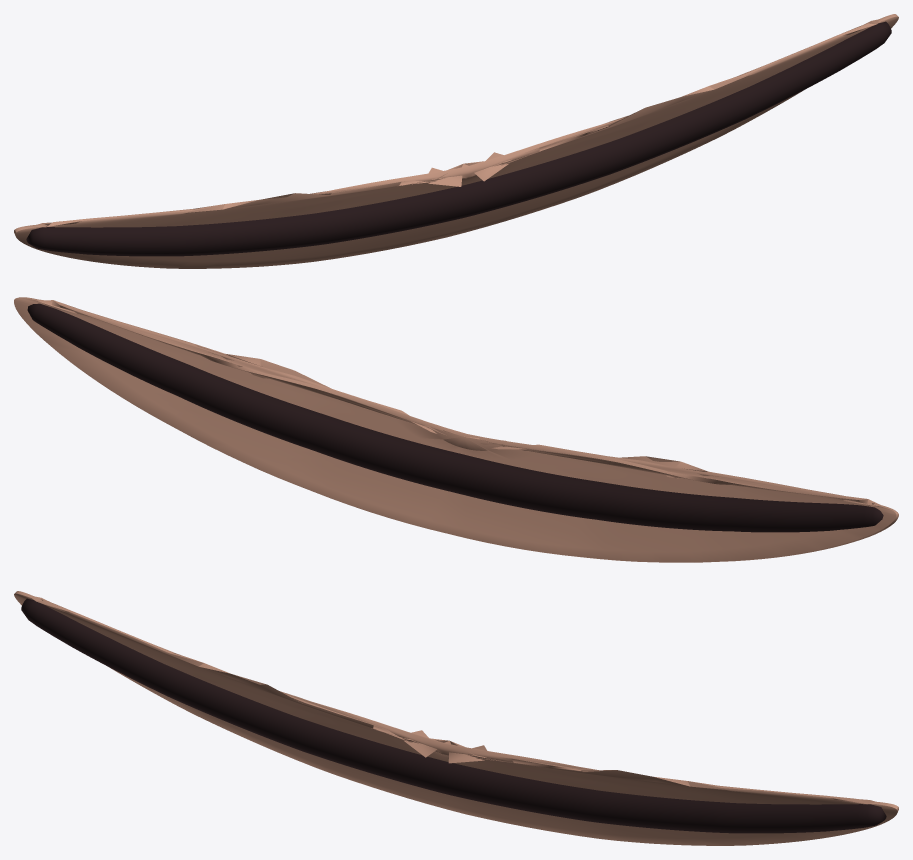
Rendered from Feminine-mouth-lips.glb.
3 renders of one model, top to bottom at view 1: azimuth 30°, elevation 25°; view 2: azimuth 150°, elevation 25°; view 3: azimuth 330°, elevation 25°, orthographic.
Parts seen in each view (by area): view 1: Face / lip seam186, Face / soft lips186; view 2: Face / soft lips186, Face / lip seam186; view 3: Face / lip seam186, Face / soft lips186.
Part boxes in pixels (x1,y1,x2,y2): Face / lip seam186: (26, 21, 891, 256); Face / soft lips186: (14, 14, 898, 268); Face / soft lips186: (14, 297, 898, 562); Face / lip seam186: (27, 303, 883, 532); Face / lip seam186: (21, 598, 886, 833); Face / soft lips186: (14, 591, 898, 845).
Size of the model in its own units: 0.1643 by 0.0221 by 0.00934.
